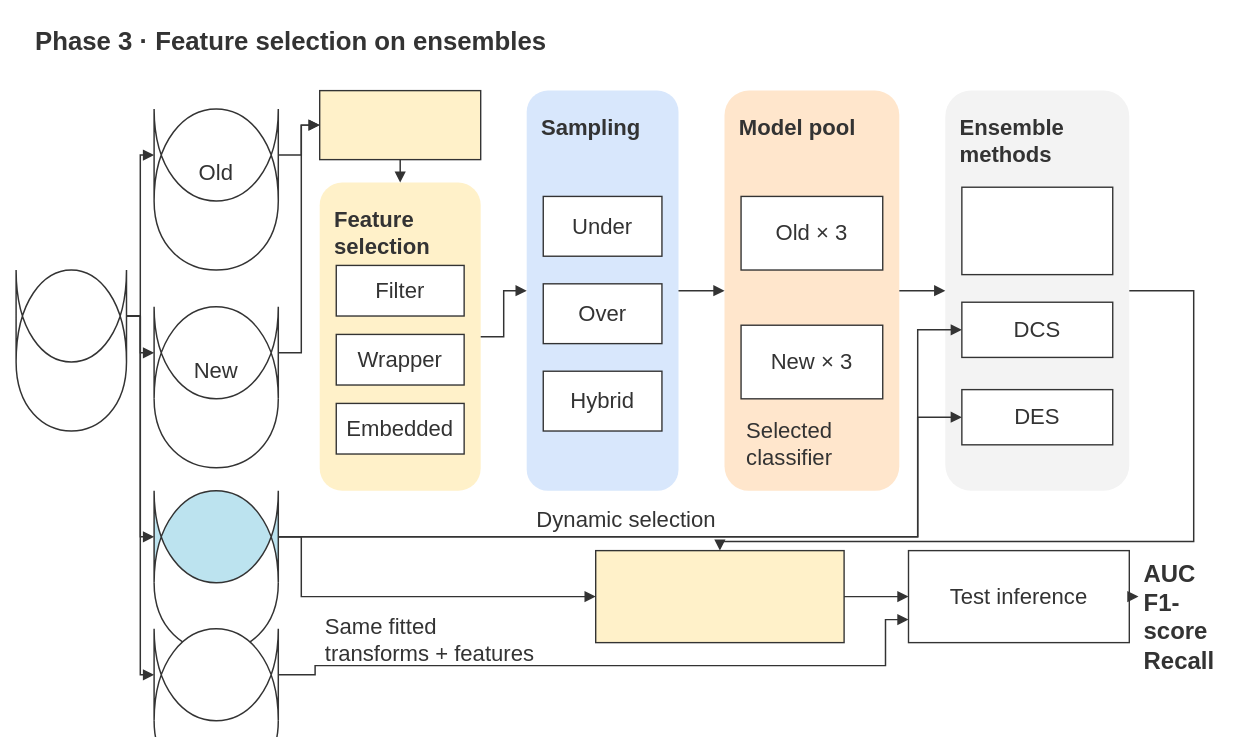
This 1260x737 diagram has some shape labels left out. The shapes that lost their labels are listed below. From the top down, each one's centre as x and y in pixels, then its label:
the point at 400,125: Preprocess
the point at 1037,230: Static 49 subsets
the point at 71,315: Original Dataset
the point at 216,536: Validation
the point at 719,596: Validation choices fixed
the point at 216,674: Test
